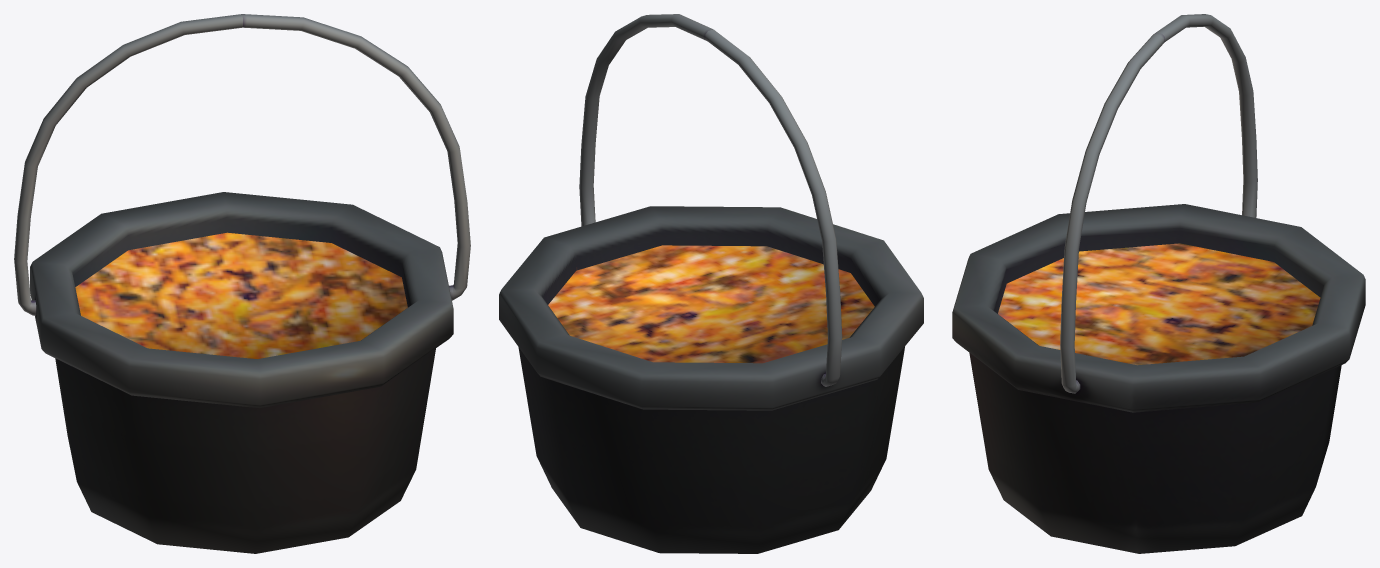
The model's file is Pot Full.fbx.
3 views of the same model, side by side, from view 1: azimuth 30°, elevation 25°; view 2: azimuth 150°, elevation 25°; view 3: azimuth 270°, elevation 25° (orthographic). The views are drawn at different scales.
Parts seen in each view (by area): view 1: Cube.012; view 2: Cube.012; view 3: Cube.012.
Part boxes in pixels (x1,y1,x2,y2): Cube.012: (14,14,470,553); Cube.012: (499,14,923,553); Cube.012: (952,14,1365,553).
Size of the model in its own units: 80.88 by 99.95 by 80.06.
Materials: 1 (1 with a texture image).
